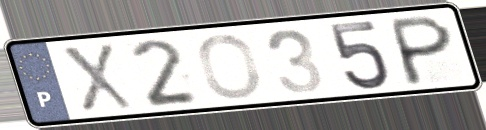2: (129, 37, 205, 110)
3: (265, 27, 324, 95)
5: (323, 17, 394, 91)
O: (195, 32, 265, 101)
P: (390, 12, 456, 88)
X: (57, 41, 138, 115)
